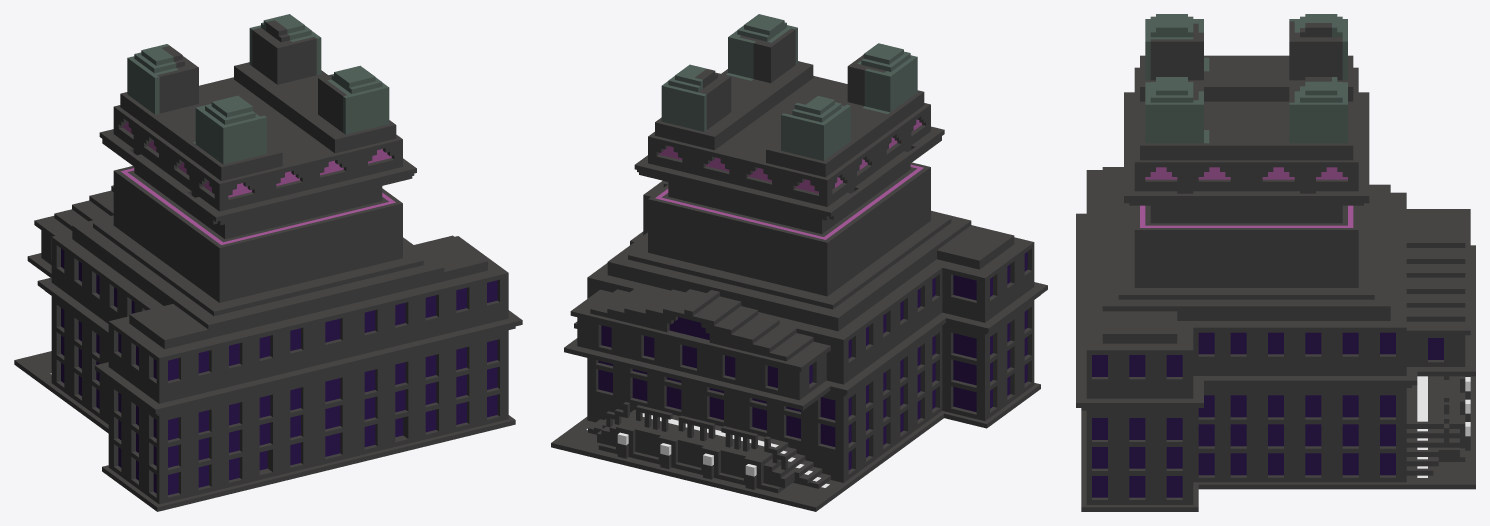
The model's file is torinoCyberPunk-1.obj.
3 views of the same model, side by side, from view 1: azimuth 30°, elevation 25°; view 2: azimuth 150°, elevation 25°; view 3: azimuth 270°, elevation 25° (orthographic). The views are drawn at different scales.
Size of the model in its own units: 8.4 by 7.6 by 7.5.
Materials: 1 (1 with a texture image).
